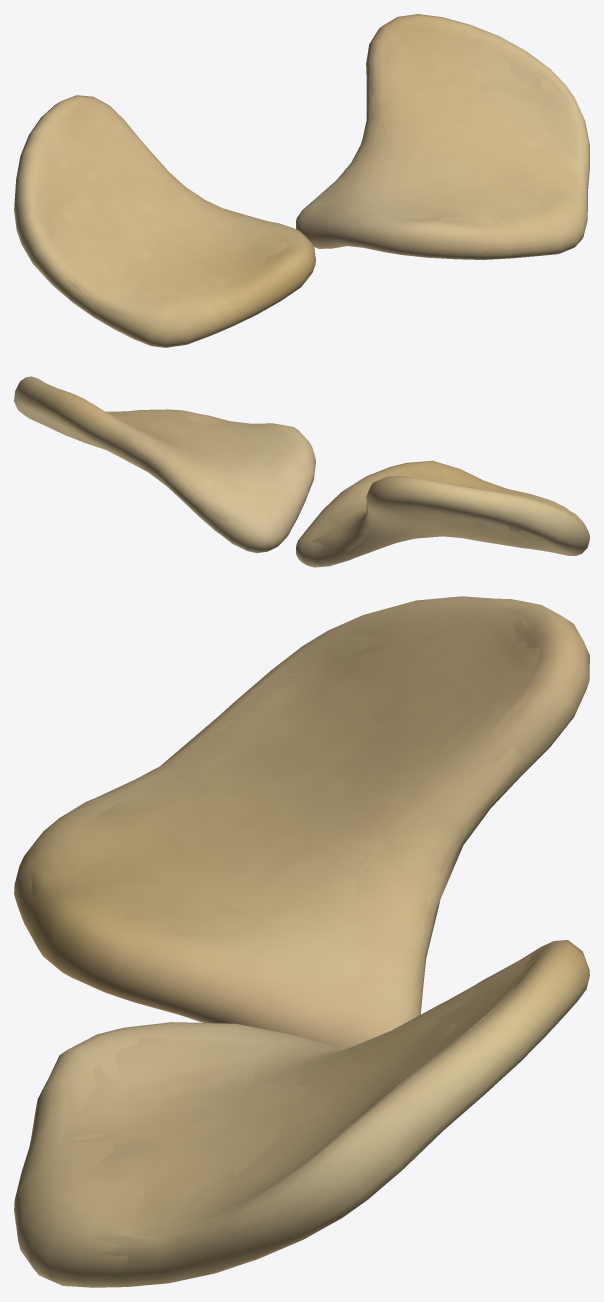
The model's file is Uterus.fbx.
3 renders of one model, top to bottom at view 1: azimuth 30°, elevation 25°; view 2: azimuth 150°, elevation 25°; view 3: azimuth 270°, elevation 25°, orthographic. The views are drawn at different scales.
Visible parts, largest first — view 1: Uterus, Uterus low; view 2: Uterus, Uterus low; view 3: Uterus, Uterus low.
Boxes of the visible parts, x1,y1,x2,y2 form: Uterus: (14,14,589,347); Uterus low: (38,24,587,315); Uterus: (14,376,589,567); Uterus low: (34,382,578,563); Uterus: (14,596,589,1287); Uterus low: (29,603,539,1264).
Size of the model in its own units: 7.47 by 2.02 by 3.38.
